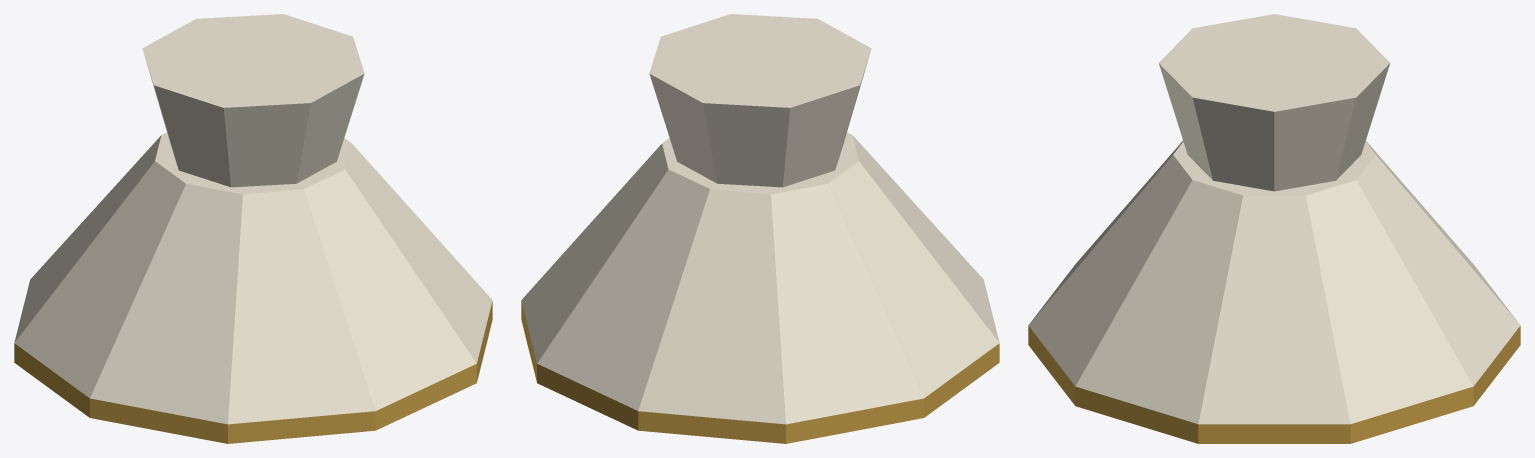
File: prop_gut_cup_flipped.glb
3 renders of one model, left to right at view 1: azimuth 30°, elevation 25°; view 2: azimuth 150°, elevation 25°; view 3: azimuth 270°, elevation 25°, orthographic.
Visible parts, largest first — view 1: prop_gut_cup_flipped; view 2: prop_gut_cup_flipped; view 3: prop_gut_cup_flipped.
Part boxes in pixels (x1,y1,x2,y2): prop_gut_cup_flipped: (14, 14, 492, 443); prop_gut_cup_flipped: (521, 14, 999, 443); prop_gut_cup_flipped: (1028, 14, 1520, 443).
Bounding box in the file's own units: 0.3234 × 0.215 × 0.34.
